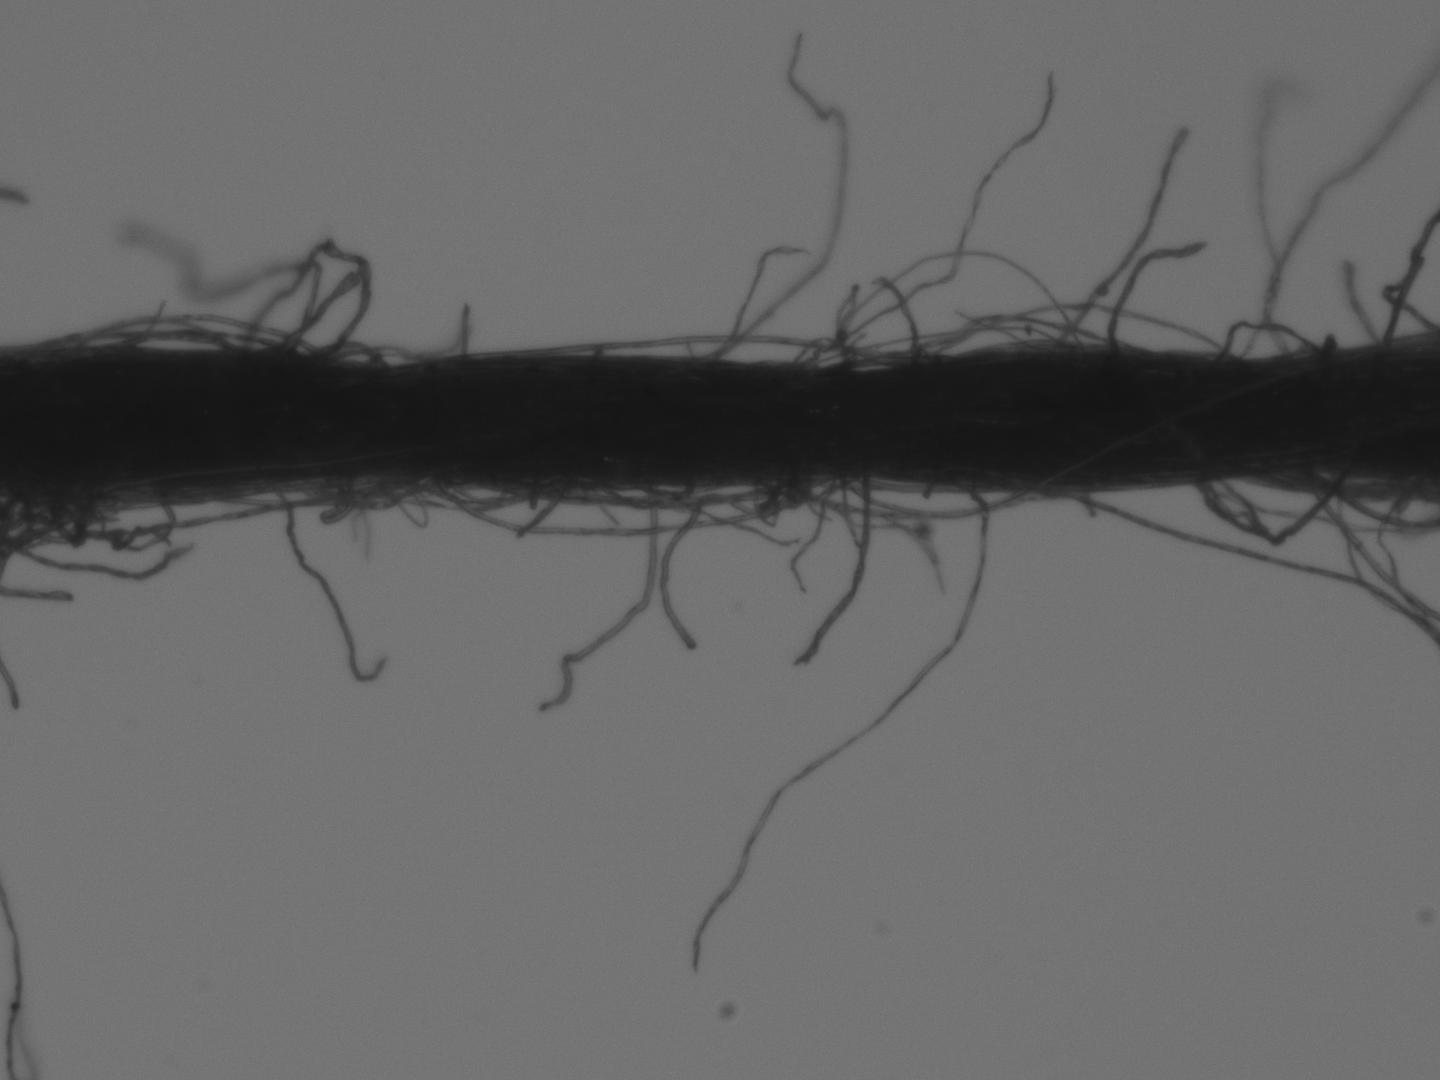loop_fiber: (440, 473, 770, 541), (238, 241, 370, 364), (1193, 453, 1359, 545), (537, 332, 899, 369), (77, 313, 310, 355), (932, 312, 1135, 360), (305, 476, 425, 532), (101, 487, 177, 557), (1209, 317, 1319, 364), (748, 471, 821, 523), (425, 480, 537, 508), (41, 490, 91, 549), (609, 484, 689, 511), (314, 341, 387, 368)
protruding_fiber: (683, 486, 991, 982), (1053, 124, 1186, 356), (268, 480, 390, 691), (789, 476, 875, 677), (703, 244, 811, 360), (1106, 241, 1206, 357), (661, 491, 706, 650), (870, 275, 922, 366), (517, 488, 571, 540), (456, 305, 473, 358)
